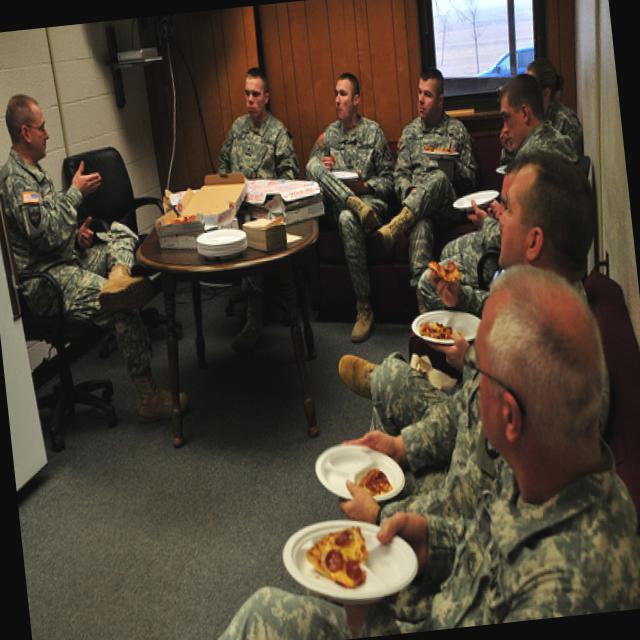Vehicle: (472, 48, 536, 82)
